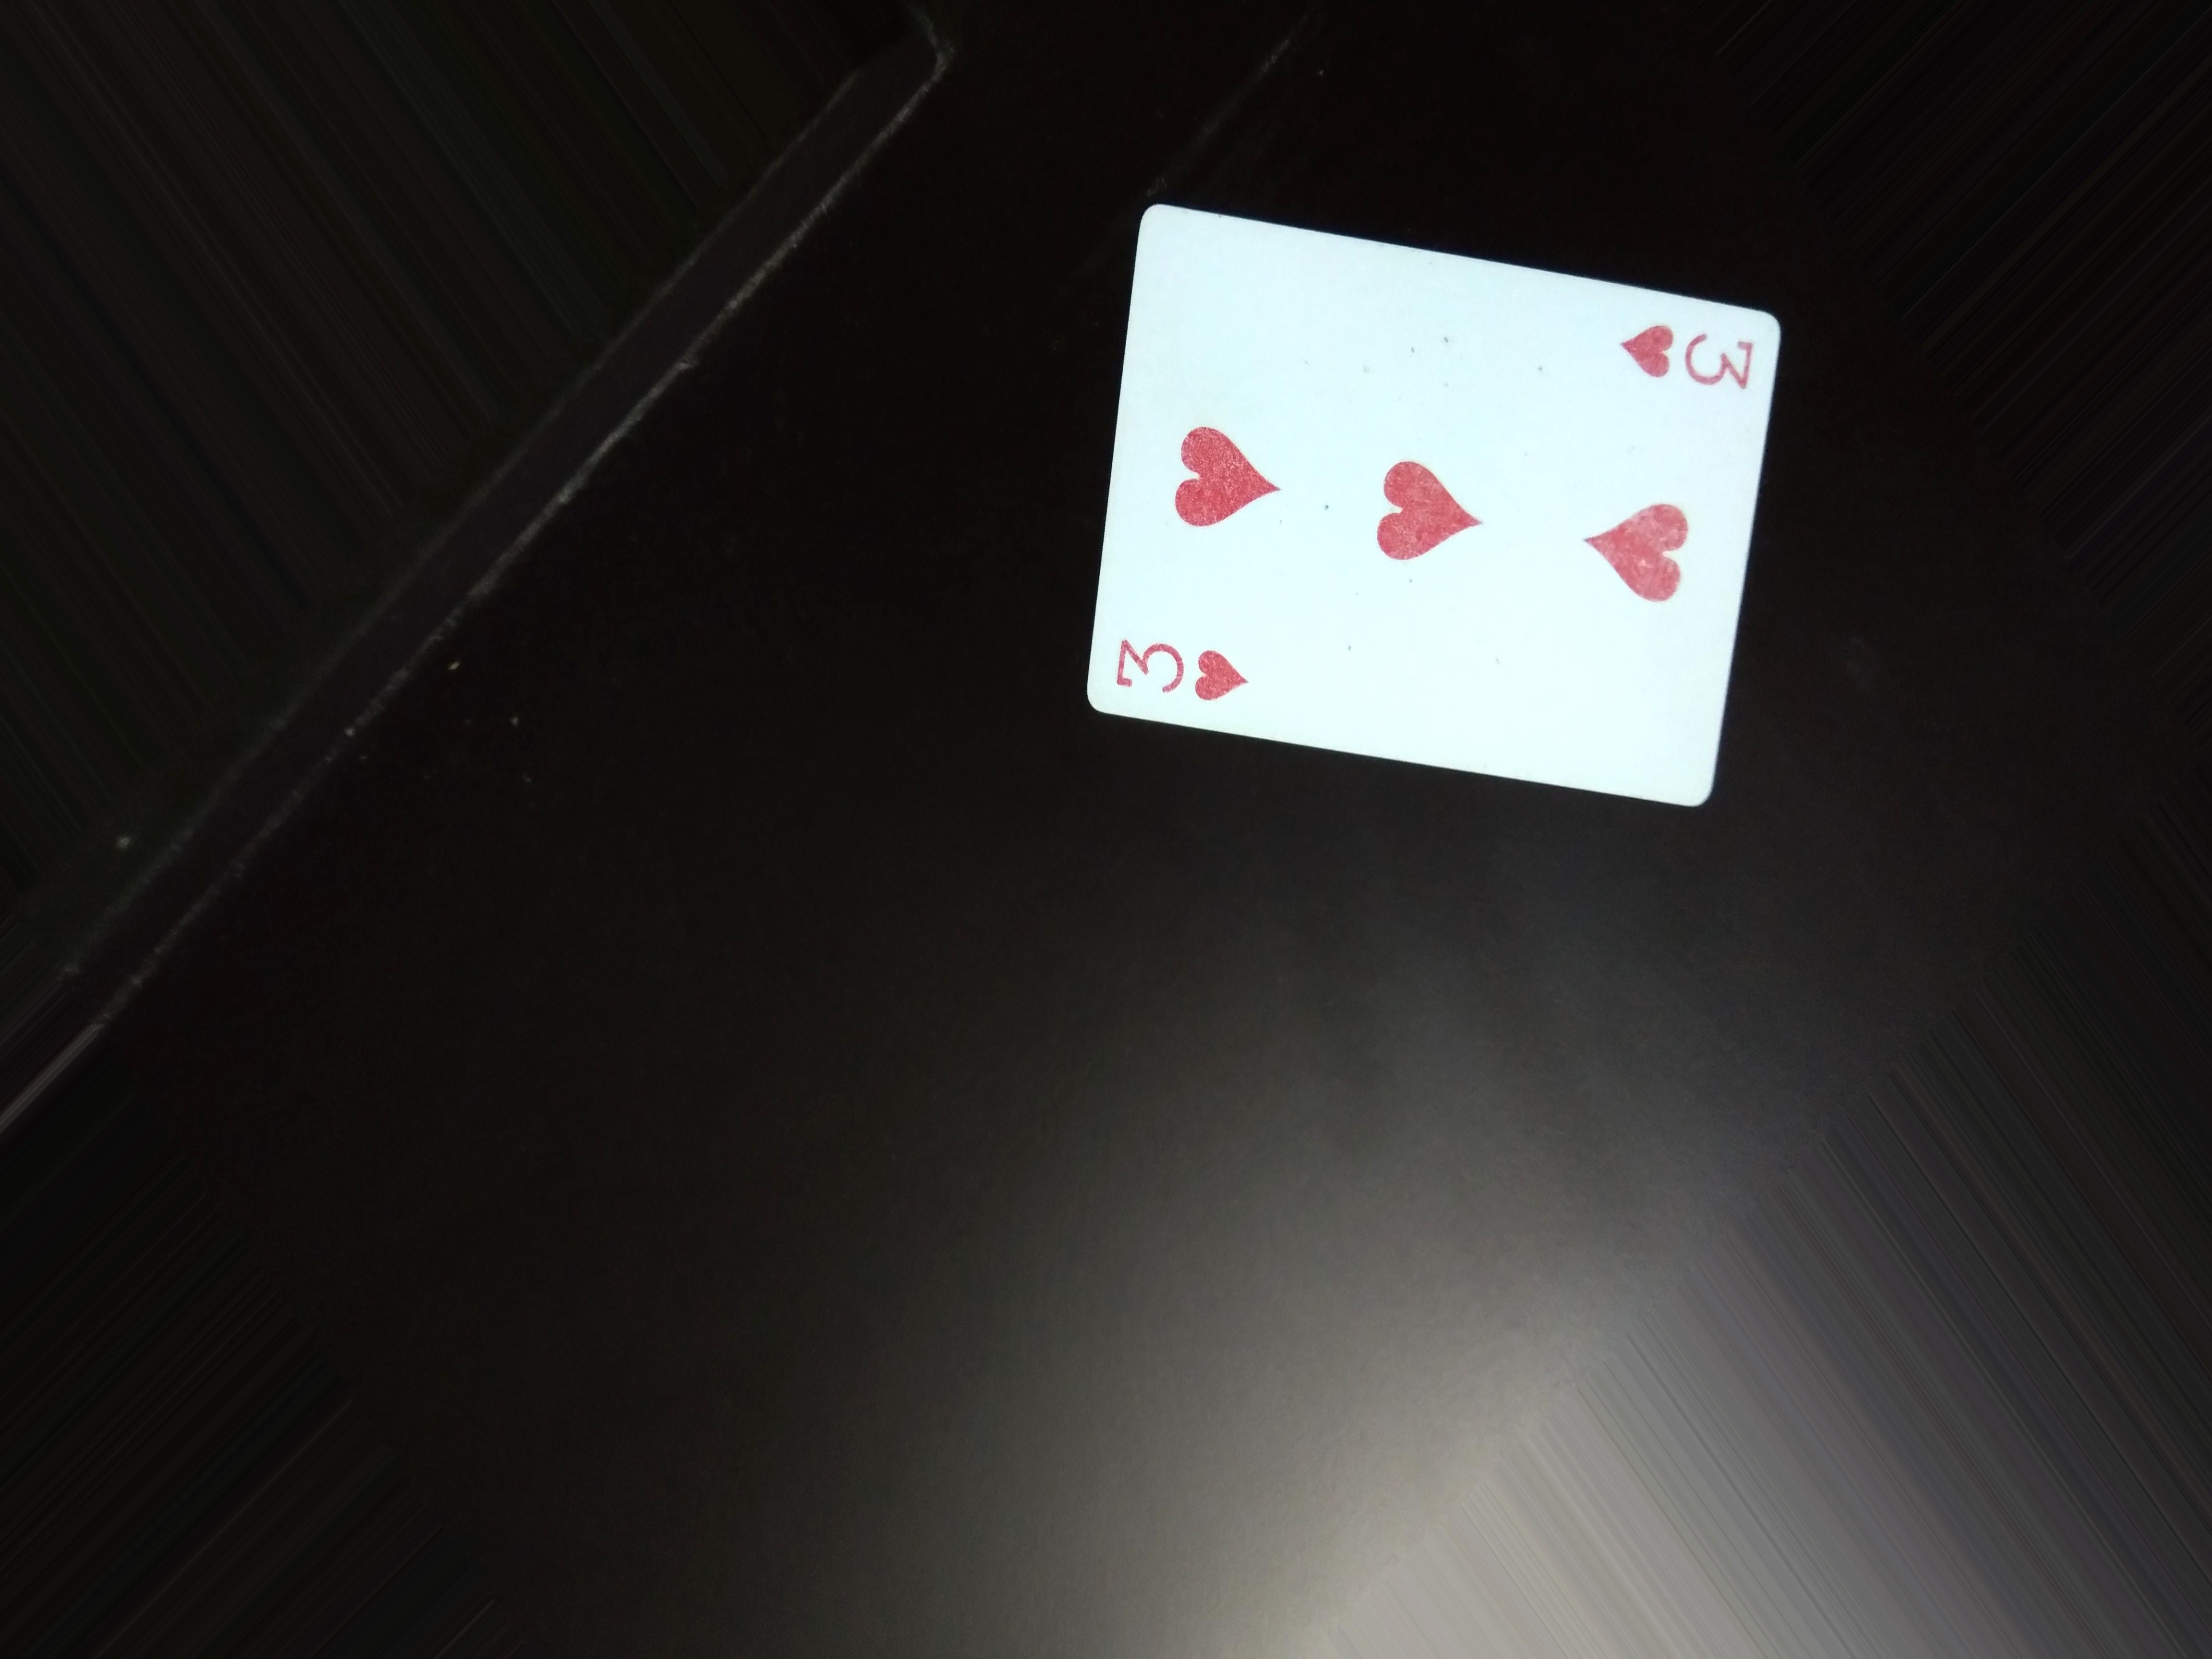3H: (1597, 300, 1780, 410)
